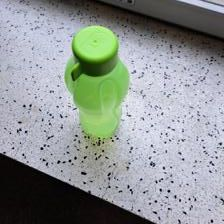bottle: (61, 26, 131, 140)
